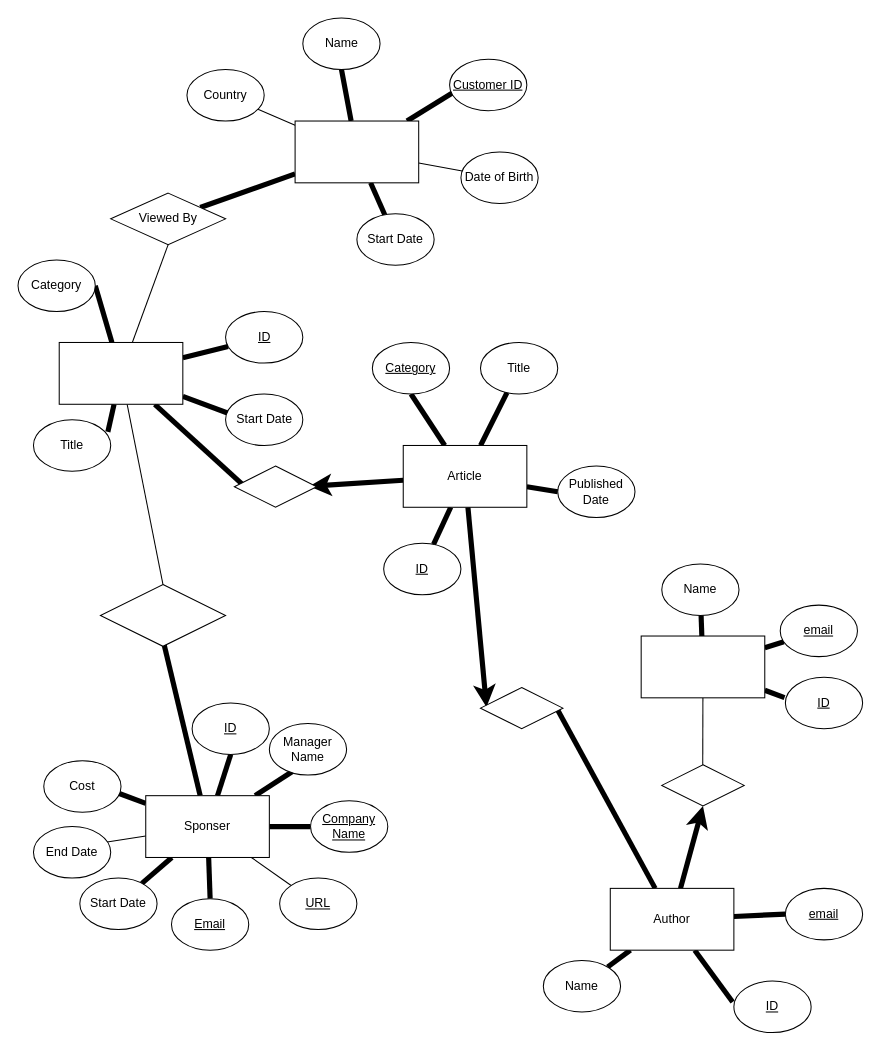
The diagram is 881 pixels wide and 1051 high, and some of its shapes have lost their labels. Each missing label, with the box of its shape:
Customer: (294, 120, 419, 183)
has: (661, 764, 744, 806)
have: (233, 465, 317, 507)
Magazine: (58, 341, 183, 404)
Sponsered By: (99, 583, 226, 646)
Supervisor: (640, 635, 765, 698)
Written By: (479, 686, 563, 729)
